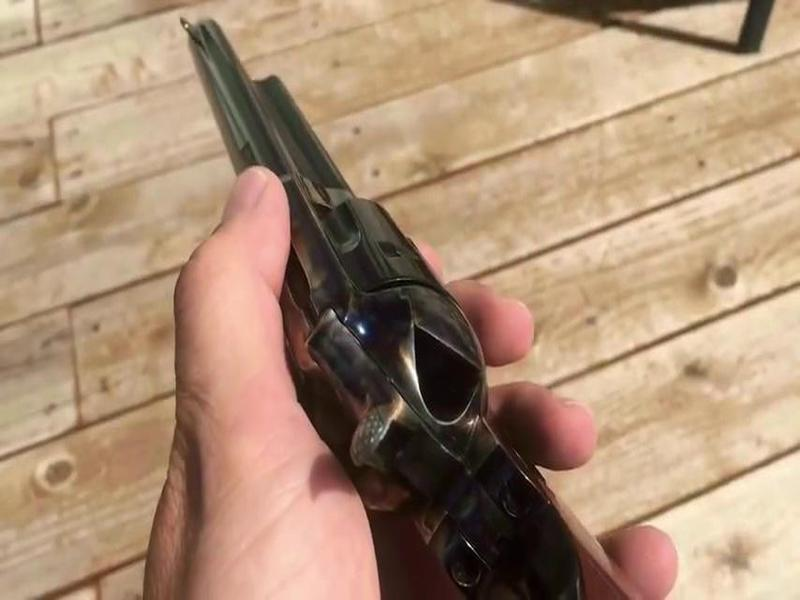Revolver: (175, 4, 512, 561)
